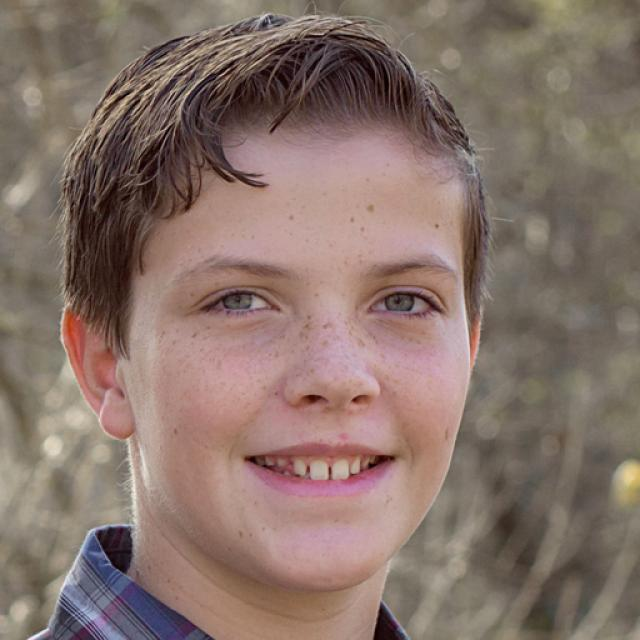happy: (128, 128, 470, 592)
